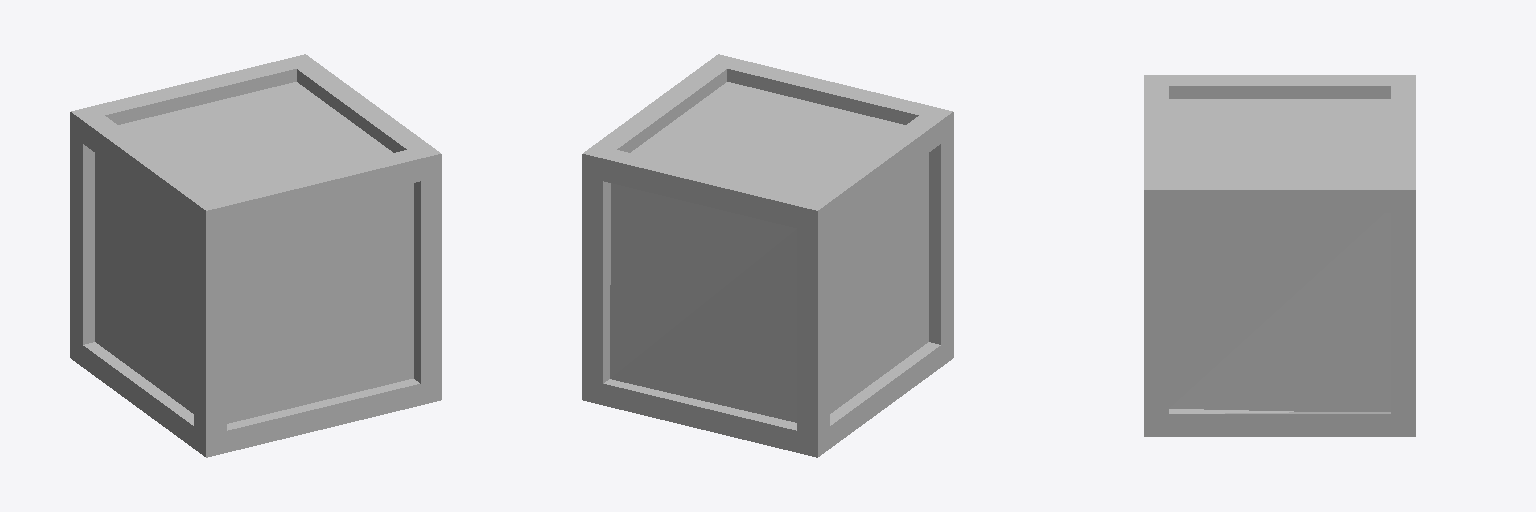
Rendered from big_crate.obj.
3 views of the same model, side by side, from view 1: azimuth 30°, elevation 25°; view 2: azimuth 150°, elevation 25°; view 3: azimuth 270°, elevation 25° (orthographic).
Visible parts, largest first — view 1: crate_big; view 2: crate_big; view 3: crate_big.
Boxes of the visible parts, x1=… form: crate_big: x1=70, y1=54, x2=441, y2=457; crate_big: x1=582, y1=54, x2=953, y2=457; crate_big: x1=1144, y1=75, x2=1415, y2=436.
Bounding box in the file's own units: 299 × 299 × 299.